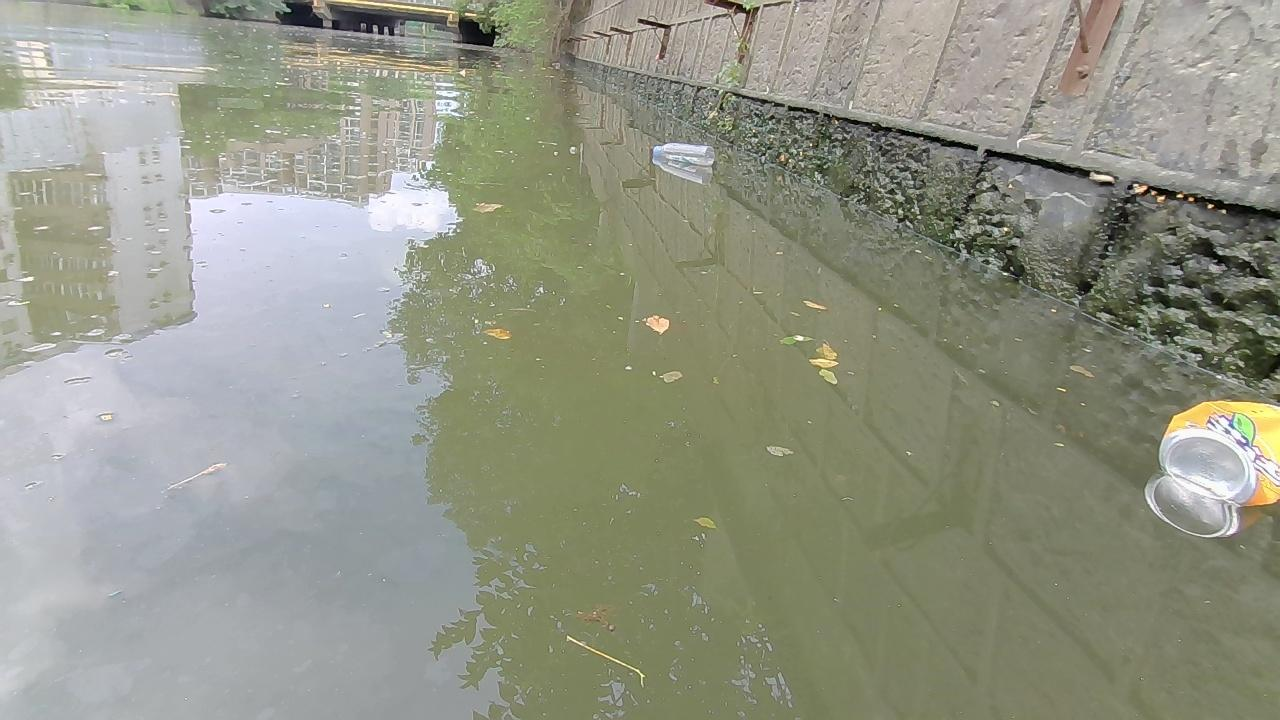bottle: (1158, 398, 1279, 506), (652, 142, 715, 165)
